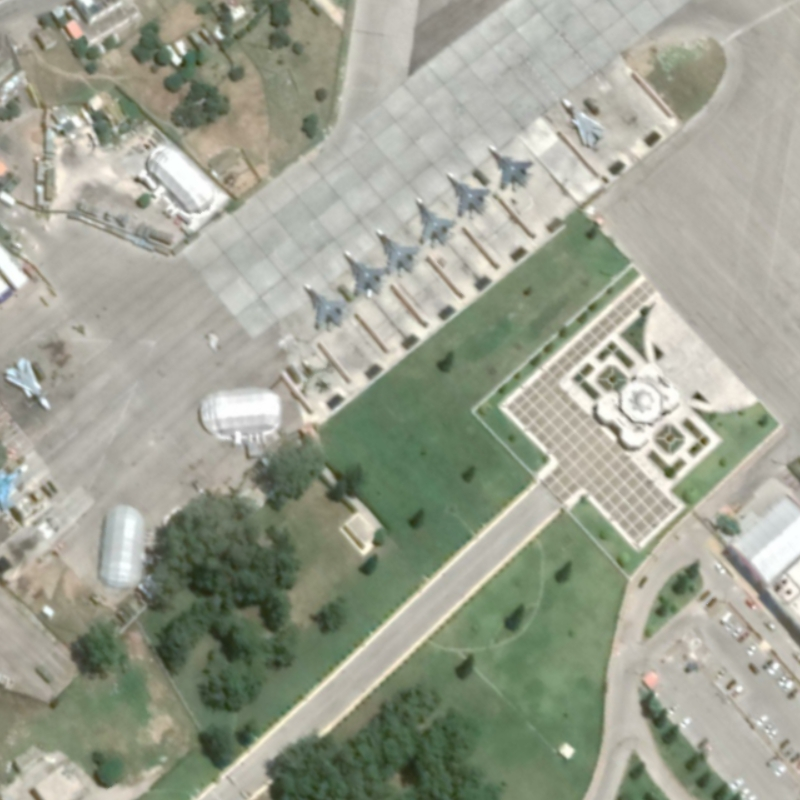A19: (302, 281, 352, 334), (412, 194, 459, 250), (487, 142, 538, 192), (442, 168, 491, 220), (372, 227, 421, 277), (341, 246, 387, 299)
A20: (2, 354, 56, 413), (560, 94, 610, 151)
